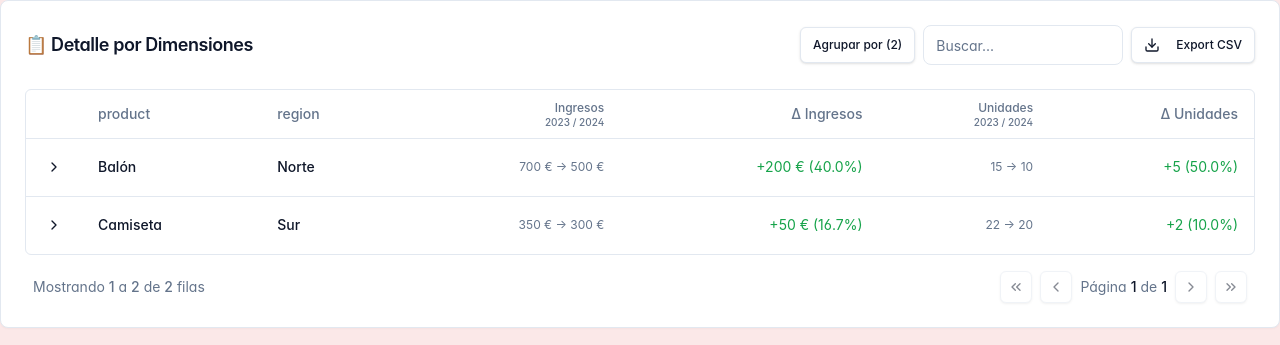
Test case: GranularTable › Búsqueda y Filtrado › debe filtrar filas según texto de búsqueda
Type "Balón" into the field with placeholder "Buscar..." at (1023, 45), box x1=923 y1=25 x2=1123 y2=65
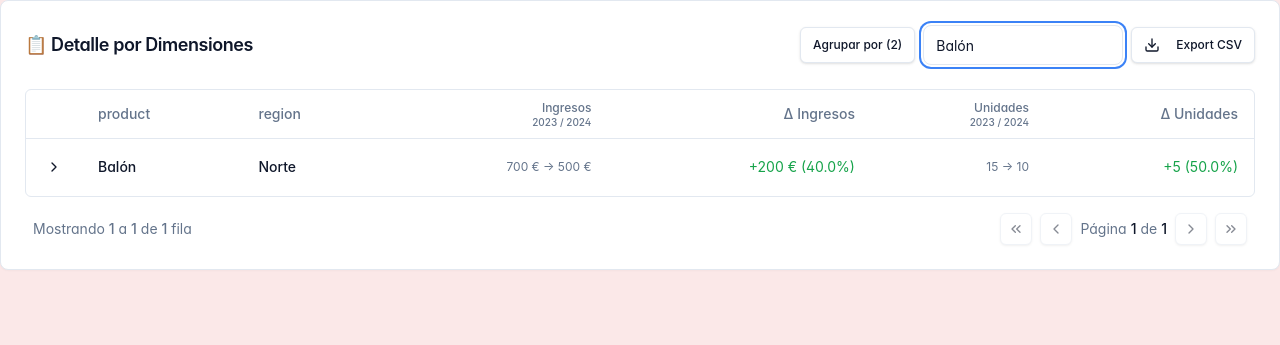
expect the text "Balón" is shown: met, box x1=82 y1=138 x2=242 y2=196
expect the text "Camiseta" is gone: met
